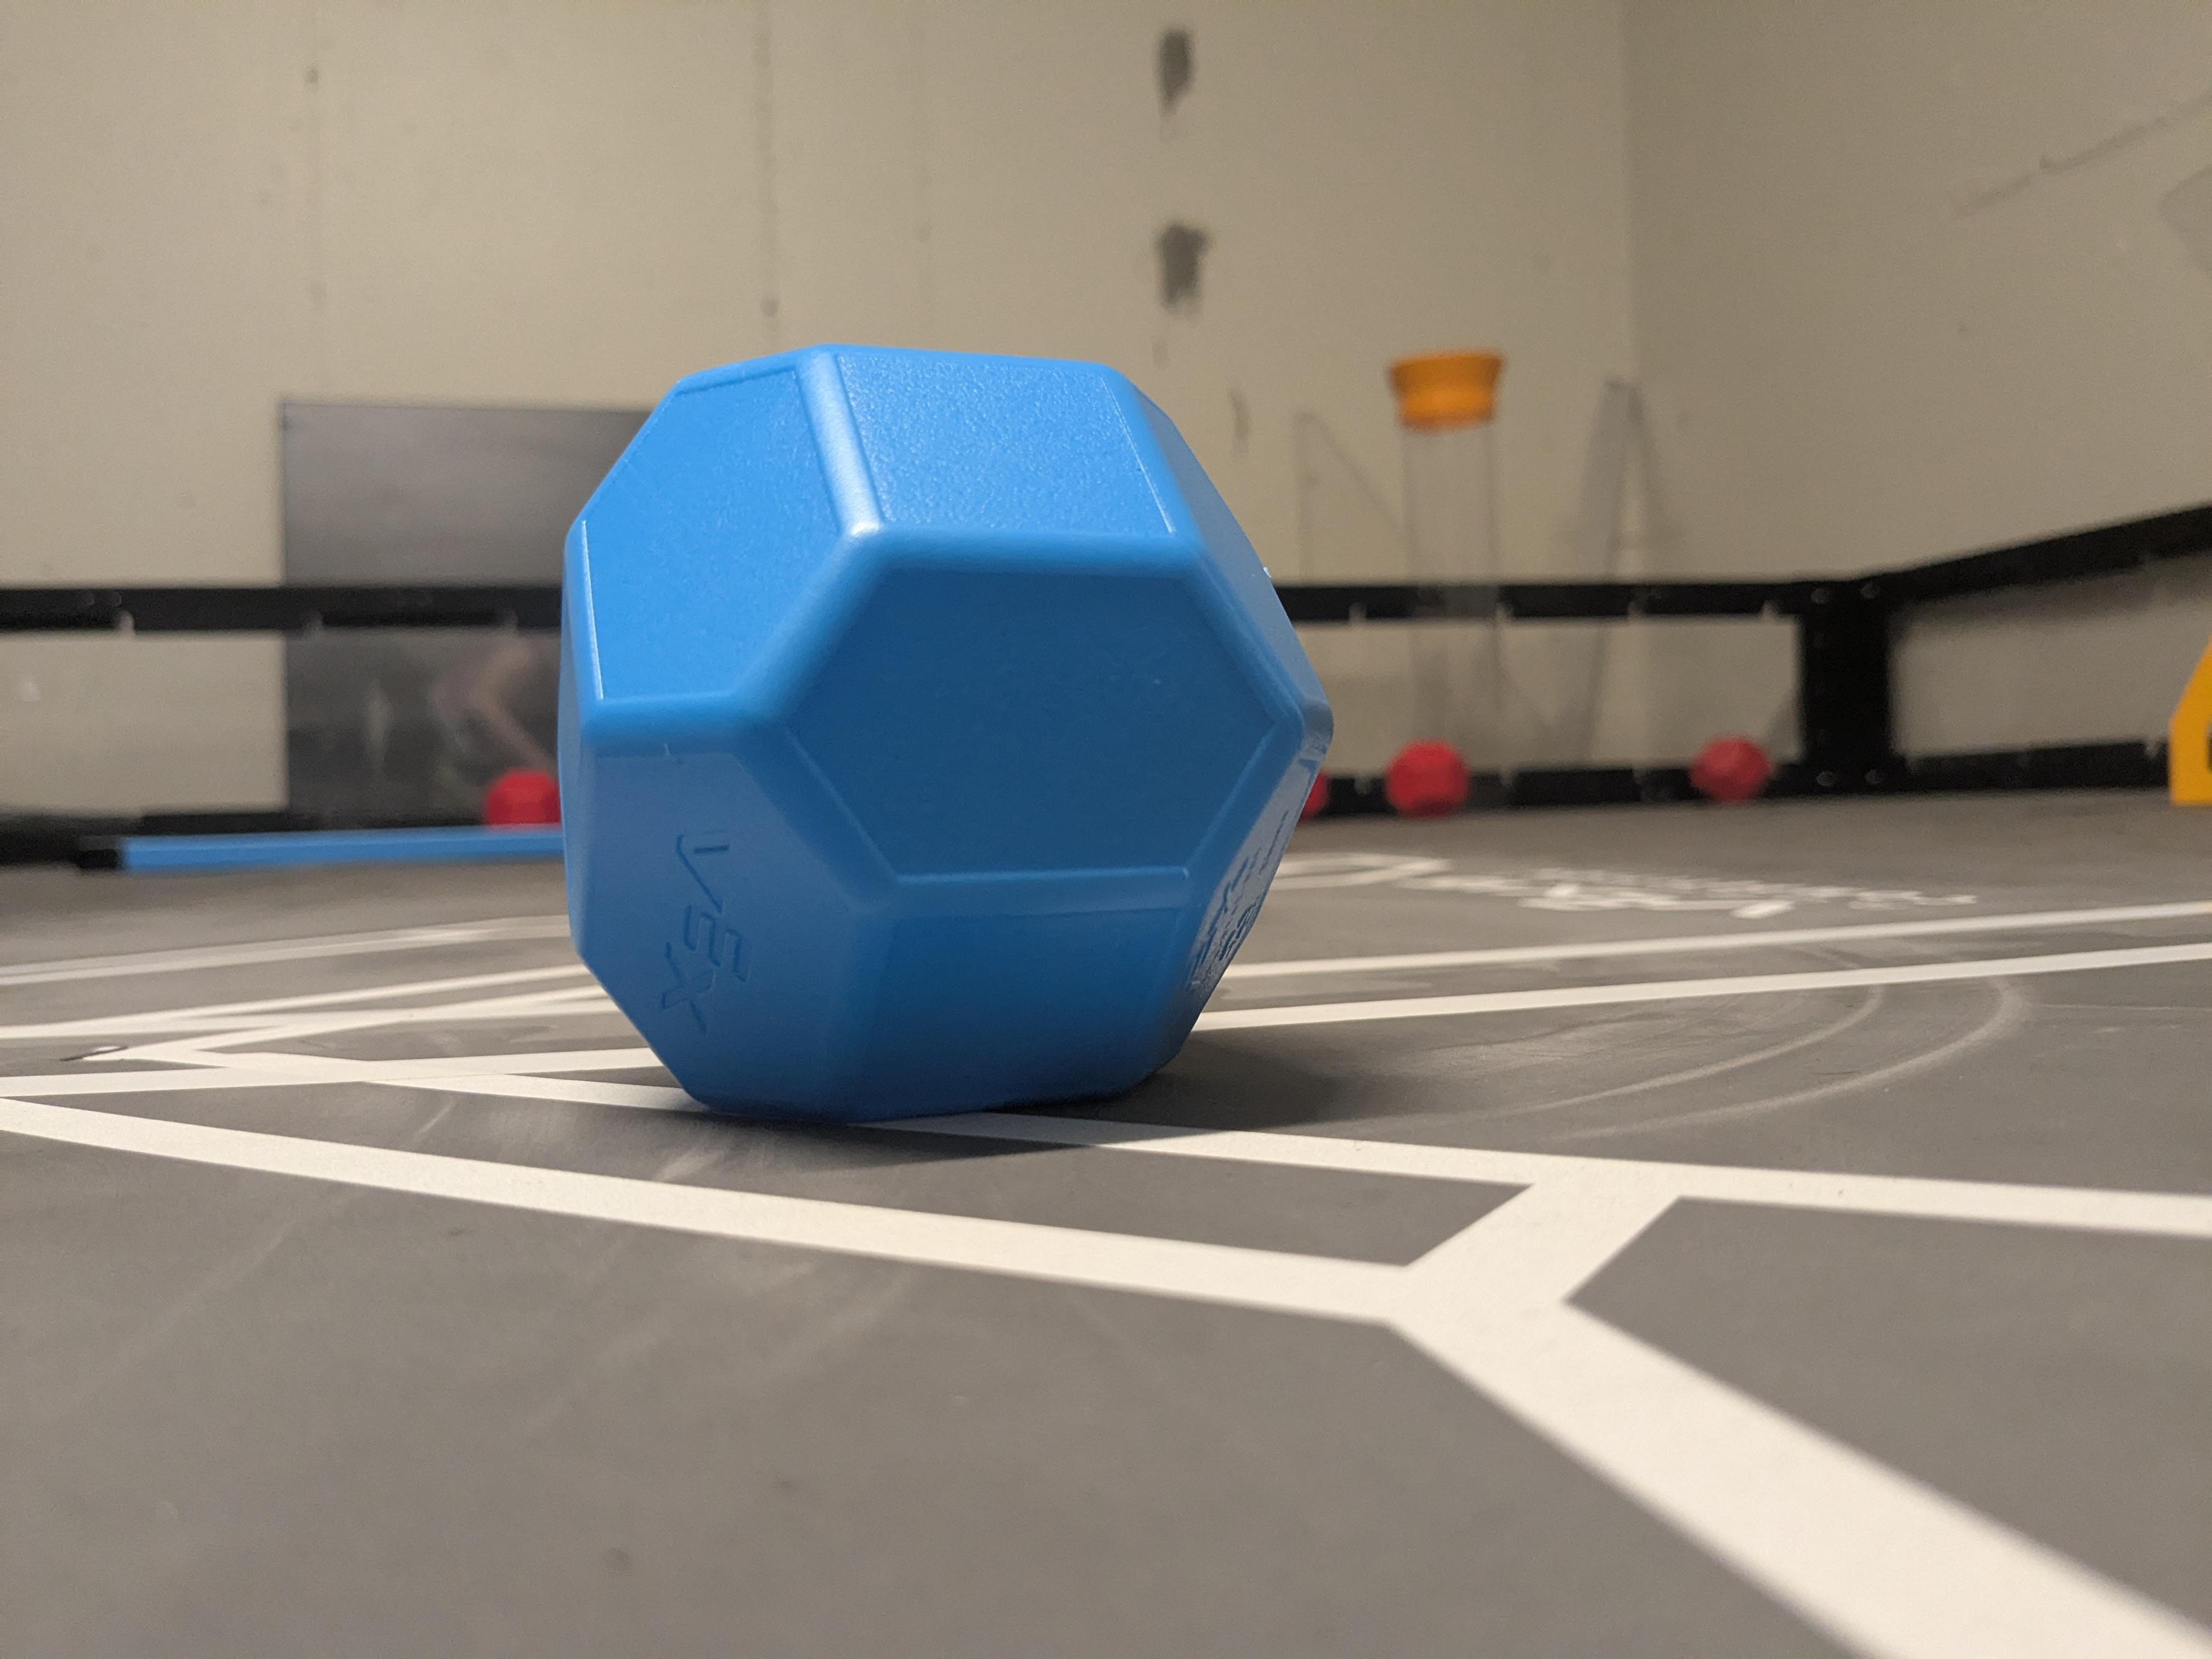Vex-Pieces-BLUE: (545, 347, 1338, 1140)
